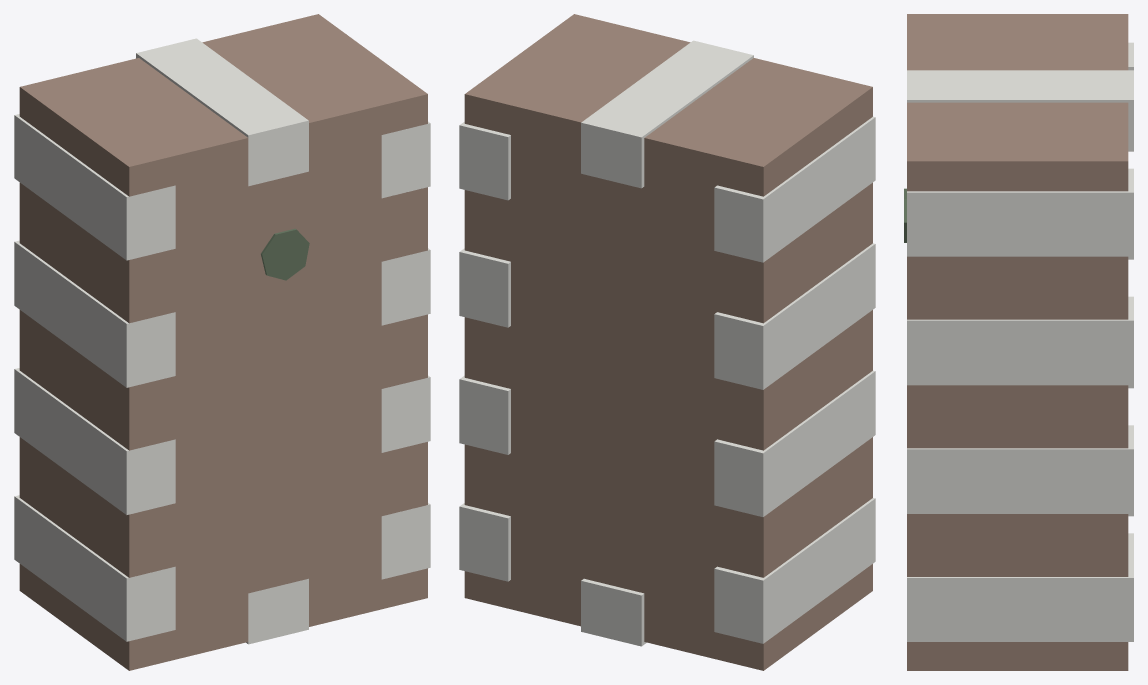
The model's file is Balun_Johanson_0900FM15K0039.glb.
3 views of the same model, side by side, from view 1: azimuth 30°, elevation 25°; view 2: azimuth 150°, elevation 25°; view 3: azimuth 270°, elevation 25° (orthographic).
Parts seen in each view (by area): view 1: Shape_IndexedFaceSet.001, Shape_IndexedFaceSet, Shape_IndexedFaceSet.007, Shape_IndexedFaceSet.091, Shape_IndexedFaceSet.103, Shape_IndexedFaceSet.085, Shape_IndexedFaceSet.097, Shape_IndexedFaceSet.038, Shape_IndexedFaceSet.034, Shape_IndexedFaceSet.042, Shape_IndexedFaceSet.049, Shape_IndexedFaceSet.004 (+12 smaller); view 2: Shape_IndexedFaceSet.003, Shape_IndexedFaceSet, Shape_IndexedFaceSet.007, Shape_IndexedFaceSet.103, Shape_IndexedFaceSet.091, Shape_IndexedFaceSet.097, Shape_IndexedFaceSet.085, Shape_IndexedFaceSet.034, Shape_IndexedFaceSet.038, Shape_IndexedFaceSet.042, Shape_IndexedFaceSet.049, Shape_IndexedFaceSet.004 (+11 smaller); view 3: Shape_IndexedFaceSet.061, Shape_IndexedFaceSet.055, Shape_IndexedFaceSet.067, Shape_IndexedFaceSet.073, Shape_IndexedFaceSet.012, Shape_IndexedFaceSet.016, Shape_IndexedFaceSet.020, Shape_IndexedFaceSet.007, Shape_IndexedFaceSet, Shape_IndexedFaceSet.008, Shape_IndexedFaceSet.049, Shape_IndexedFaceSet.024 (+5 smaller).
Part boxes in pixels (x1,y1,x2,y2): Shape_IndexedFaceSet.001: (129, 94, 427, 670); Shape_IndexedFaceSet: (20, 58, 247, 166); Shape_IndexedFaceSet.007: (202, 14, 427, 122); Shape_IndexedFaceSet.091: (14, 369, 126, 514); Shape_IndexedFaceSet.103: (14, 242, 126, 387); Shape_IndexedFaceSet.085: (14, 496, 126, 641); Shape_IndexedFaceSet.097: (14, 115, 126, 260); Shape_IndexedFaceSet.038: (19, 310, 129, 450); Shape_IndexedFaceSet.034: (19, 437, 129, 577); Shape_IndexedFaceSet.042: (19, 182, 129, 322); Shape_IndexedFaceSet.049: (136, 38, 308, 135); Shape_IndexedFaceSet.004: (19, 87, 129, 196); Shape_IndexedFaceSet.003: (464, 94, 763, 670); Shape_IndexedFaceSet: (645, 58, 872, 166); Shape_IndexedFaceSet.007: (465, 14, 690, 122); Shape_IndexedFaceSet.103: (763, 244, 875, 389); Shape_IndexedFaceSet.091: (763, 371, 875, 516); Shape_IndexedFaceSet.097: (763, 117, 875, 262); Shape_IndexedFaceSet.085: (763, 498, 875, 643); Shape_IndexedFaceSet.034: (763, 437, 872, 577); Shape_IndexedFaceSet.038: (763, 310, 872, 450); Shape_IndexedFaceSet.042: (763, 182, 872, 322); Shape_IndexedFaceSet.049: (581, 40, 753, 137); Shape_IndexedFaceSet.004: (763, 87, 872, 196); Shape_IndexedFaceSet.061: (907, 320, 1133, 385); Shape_IndexedFaceSet.055: (907, 192, 1133, 256); Shape_IndexedFaceSet.067: (907, 449, 1133, 513); Shape_IndexedFaceSet.073: (907, 578, 1133, 641); Shape_IndexedFaceSet.012: (907, 256, 1128, 319); Shape_IndexedFaceSet.016: (907, 385, 1128, 448); Shape_IndexedFaceSet.020: (907, 514, 1128, 576); Shape_IndexedFaceSet.007: (907, 102, 1128, 161); Shape_IndexedFaceSet: (907, 14, 1128, 70); Shape_IndexedFaceSet.008: (907, 161, 1128, 191); Shape_IndexedFaceSet.049: (907, 70, 1133, 99); Shape_IndexedFaceSet.024: (907, 642, 1128, 670).
Bounding box in the file's own units: 0.492 × 0.788 × 0.319.
